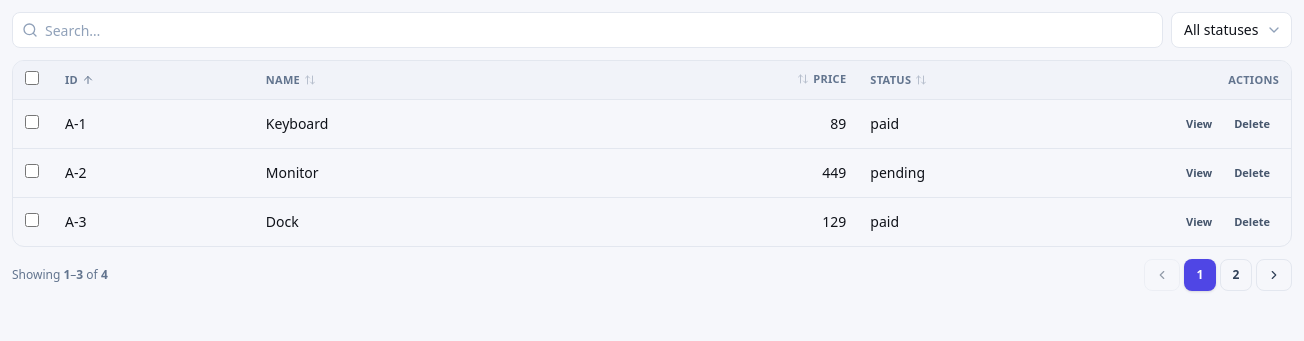
it: DataTable › shows a no-results state that is distinct from the empty state
Type "zzzzz" into the field named "Search records" at (588, 30), box [12, 12, 1163, 48]
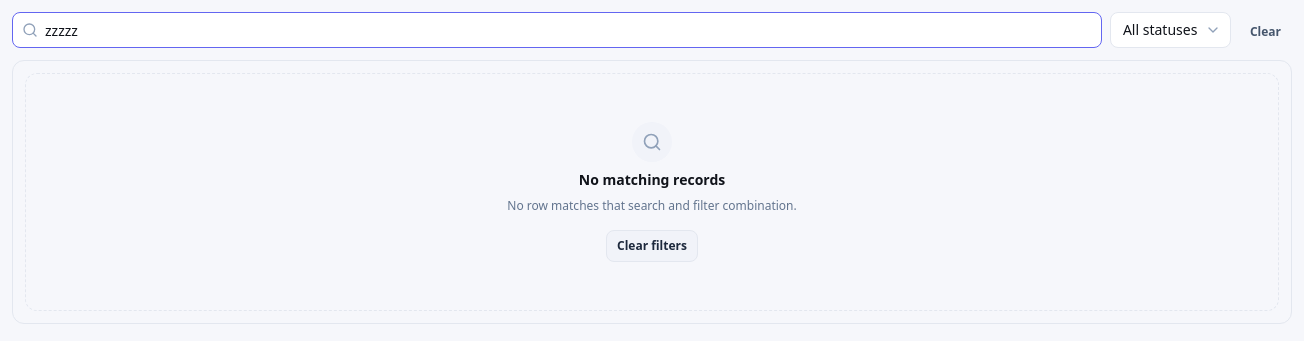
Check: the text "No matching records" is shown, box [579, 170, 725, 190]
Check: the button "Clear filters" is shown, box [606, 230, 698, 262]
